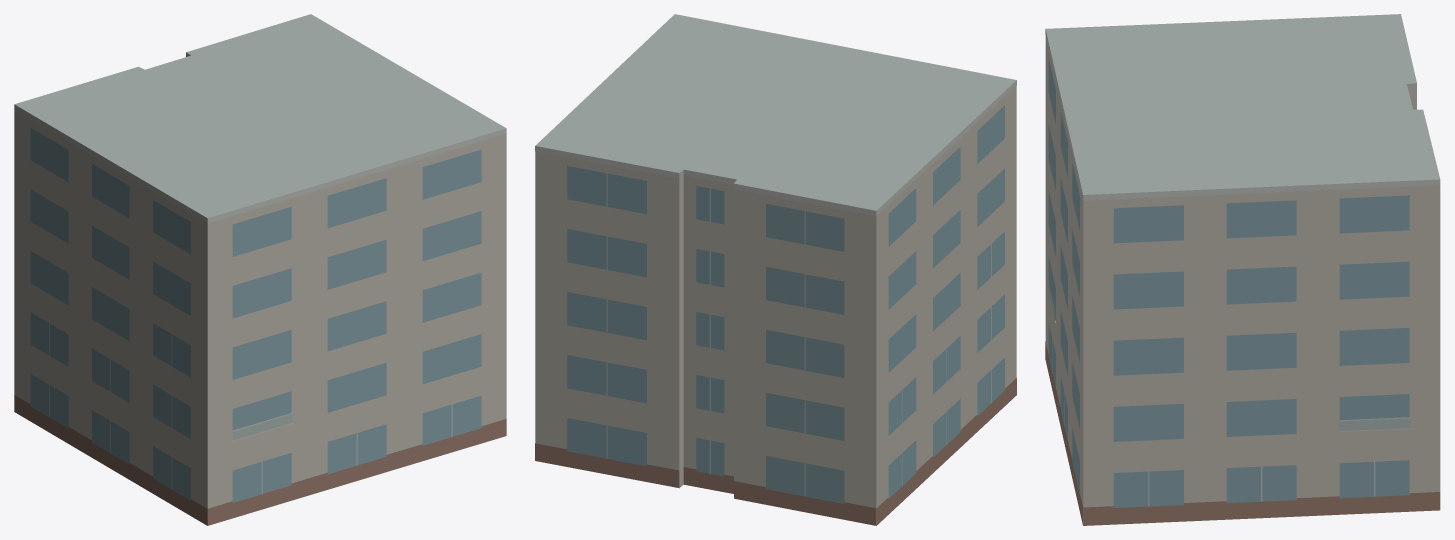
Rendered from survey-upis-33018078.glb.
The picture shows the model from 3 angles, left to right: view 1: azimuth 30°, elevation 25°; view 2: azimuth 150°, elevation 25°; view 3: azimuth 270°, elevation 25°; orthographic projection. The views are drawn at different scales.
Parts seen in each view (by area): view 1: survey-upis-33018078.tmp; view 2: survey-upis-33018078.tmp; view 3: survey-upis-33018078.tmp.
Part boxes in pixels (x1,y1,x2,y2): survey-upis-33018078.tmp: (14, 14, 506, 525); survey-upis-33018078.tmp: (535, 14, 1016, 525); survey-upis-33018078.tmp: (1045, 14, 1440, 525).
Bounding box in the file's own units: 16.31 × 13.9 × 15.04.
